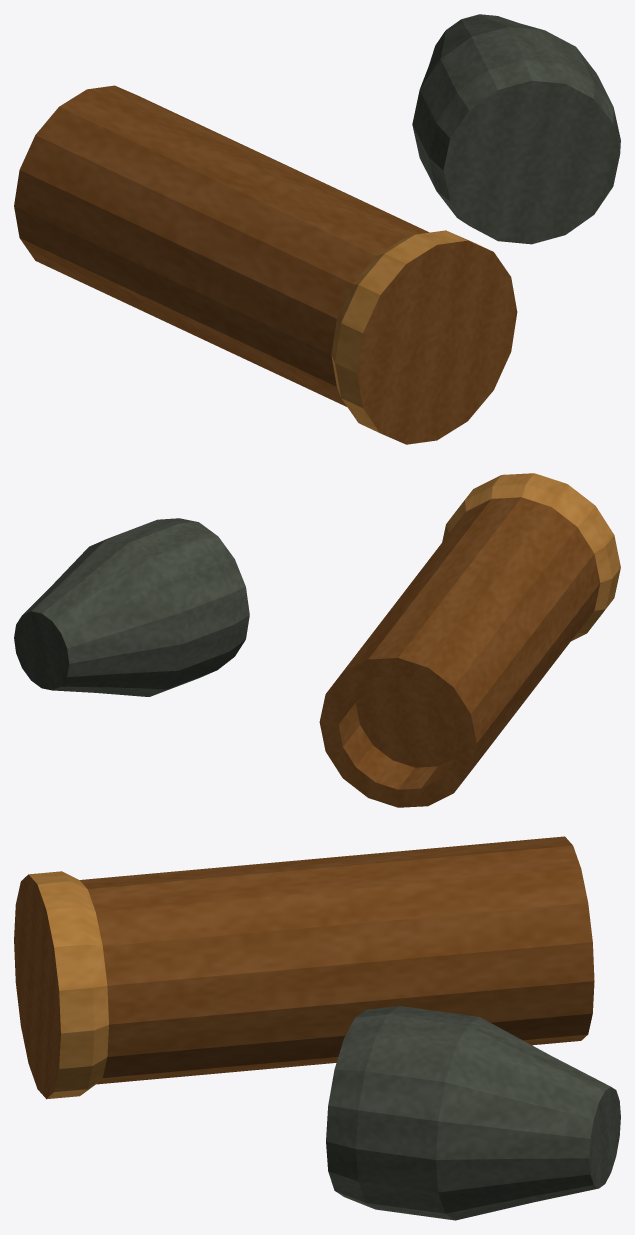
File: AuxAmmoSmallPistolBody.fbx
3 renders of one model, top to bottom at view 1: azimuth 30°, elevation 25°; view 2: azimuth 150°, elevation 25°; view 3: azimuth 270°, elevation 25°, orthographic. The views are drawn at different scales.
Visible parts, largest first — view 1: AuxAmmoSmallPistolBody_export; view 2: AuxAmmoSmallPistolBody_export; view 3: AuxAmmoSmallPistolBody_export.
Boxes of the visible parts, left/top/right/bottom form: AuxAmmoSmallPistolBody_export: left=14, top=14, right=620, bottom=444; AuxAmmoSmallPistolBody_export: left=14, top=473, right=620, bottom=807; AuxAmmoSmallPistolBody_export: left=14, top=836, right=620, bottom=1220.
Size of the model in its own units: 3.78 by 3.55 by 1.32.
